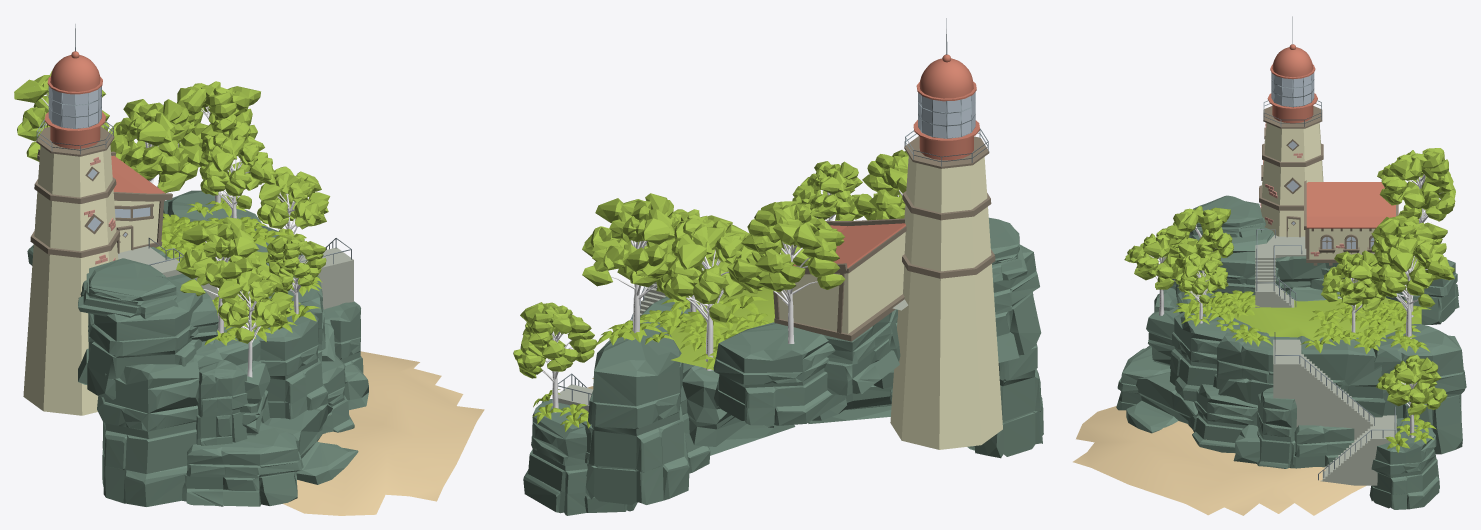
File: island.glb
The picture shows the model from 3 angles, left to right: view 1: azimuth 30°, elevation 25°; view 2: azimuth 150°, elevation 25°; view 3: azimuth 270°, elevation 25°; orthographic projection. The views are drawn at different scales.
Visible parts, largest first — view 1: Cylinder.004, Plane.013, terain2.031, terain2.016, terain2.025, Tree_Generator.015, terain2.017, terain2.026, Tree_Generator.013, Tree_Generator.011, Tree_Generator.010, Tree_Generator.014 (+21 smaller); view 2: Cylinder.004, terain2.022, terain2.023, Tree_Generator.008, Cube.061, Tree_Generator.010, Tree_Generator.015, terain2.029, Tree_Generator.009, terain2.031, terain2.024, Plane.016 (+14 smaller); view 3: Plane.013, Cylinder.004, terain2.022, Cube.076, Tree_Generator.010, terain2.029, Tree_Generator.008, Cube.063, terain2.017, terain1.010, Plane.016, Plane.012 (+28 smaller).
Part boxes in pixels (<box>): Cylinder.004: <box>23,126,120,415</box>; Plane.013: <box>283,351,484,515</box>; terain2.031: <box>97,357,199,506</box>; terain2.016: <box>182,423,303,506</box>; terain2.025: <box>78,278,202,399</box>; Tree_Generator.015: <box>108,99,202,192</box>; terain2.017: <box>254,292,327,419</box>; terain2.026: <box>78,258,178,318</box>; Tree_Generator.013: <box>176,217,261,333</box>; Tree_Generator.011: <box>199,133,278,218</box>; Tree_Generator.010: <box>177,81,260,204</box>; Tree_Generator.014: <box>218,269,293,377</box>; Cylinder.004: <box>890,136,1002,449</box>; terain2.022: <box>585,319,689,504</box>; terain2.023: <box>713,322,845,425</box>; Tree_Generator.008: <box>727,201,845,343</box>; Cube.061: <box>774,226,906,341</box>; Tree_Generator.010: <box>582,193,678,338</box>; Tree_Generator.015: <box>663,217,762,370</box>; terain2.029: <box>523,399,587,515</box>; Tree_Generator.009: <box>513,302,597,412</box>; terain2.031: <box>967,316,1043,458</box>; terain2.024: <box>823,309,900,395</box>; Plane.016: <box>596,295,769,369</box>; Plane.013: <box>1073,406,1366,515</box>; Cylinder.004: <box>1259,106,1323,236</box>; terain2.022: <box>1373,324,1466,454</box>; Cube.076: <box>1273,339,1396,439</box>; Tree_Generator.010: <box>1370,233,1454,338</box>; terain2.029: <box>1369,426,1439,509</box>; Tree_Generator.008: <box>1377,148,1455,223</box>; Cube.063: <box>1306,182,1395,228</box>; terain2.017: <box>1170,306,1251,401</box>; terain1.010: <box>1297,336,1385,417</box>; Plane.016: <box>1300,294,1430,353</box>; Plane.012: <box>1218,292,1421,340</box>.
Size of what is drawn, in the model's own units: 66.48 by 73.24 by 70.06.
